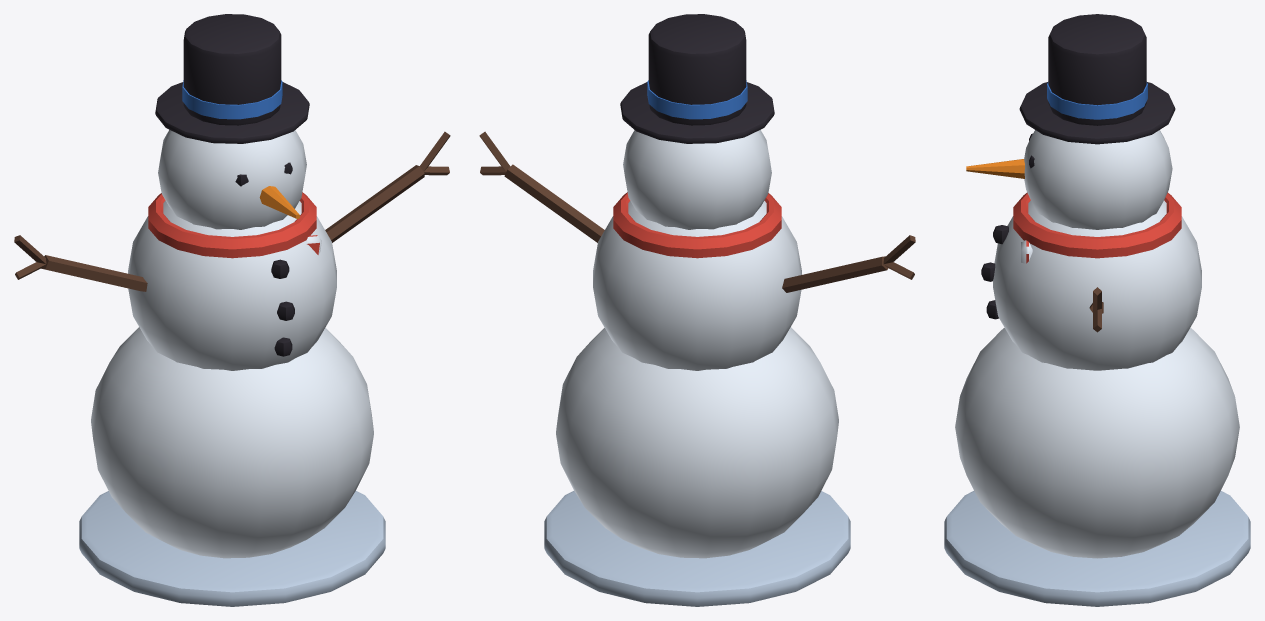
Rendered from snow_man.glb.
3 renders of one model, left to right at view 1: azimuth 30°, elevation 25°; view 2: azimuth 150°, elevation 25°; view 3: azimuth 270°, elevation 25°, orthographic.
Parts seen in each view (by area): view 1: snow_man; view 2: snow_man; view 3: snow_man.
Part boxes in pixels (x1,y1,x2,y2): snow_man: (14, 14, 450, 606); snow_man: (479, 14, 915, 606); snow_man: (944, 14, 1250, 606).
Bounding box in the file's own units: 1.95 × 2.19 × 1.18.
